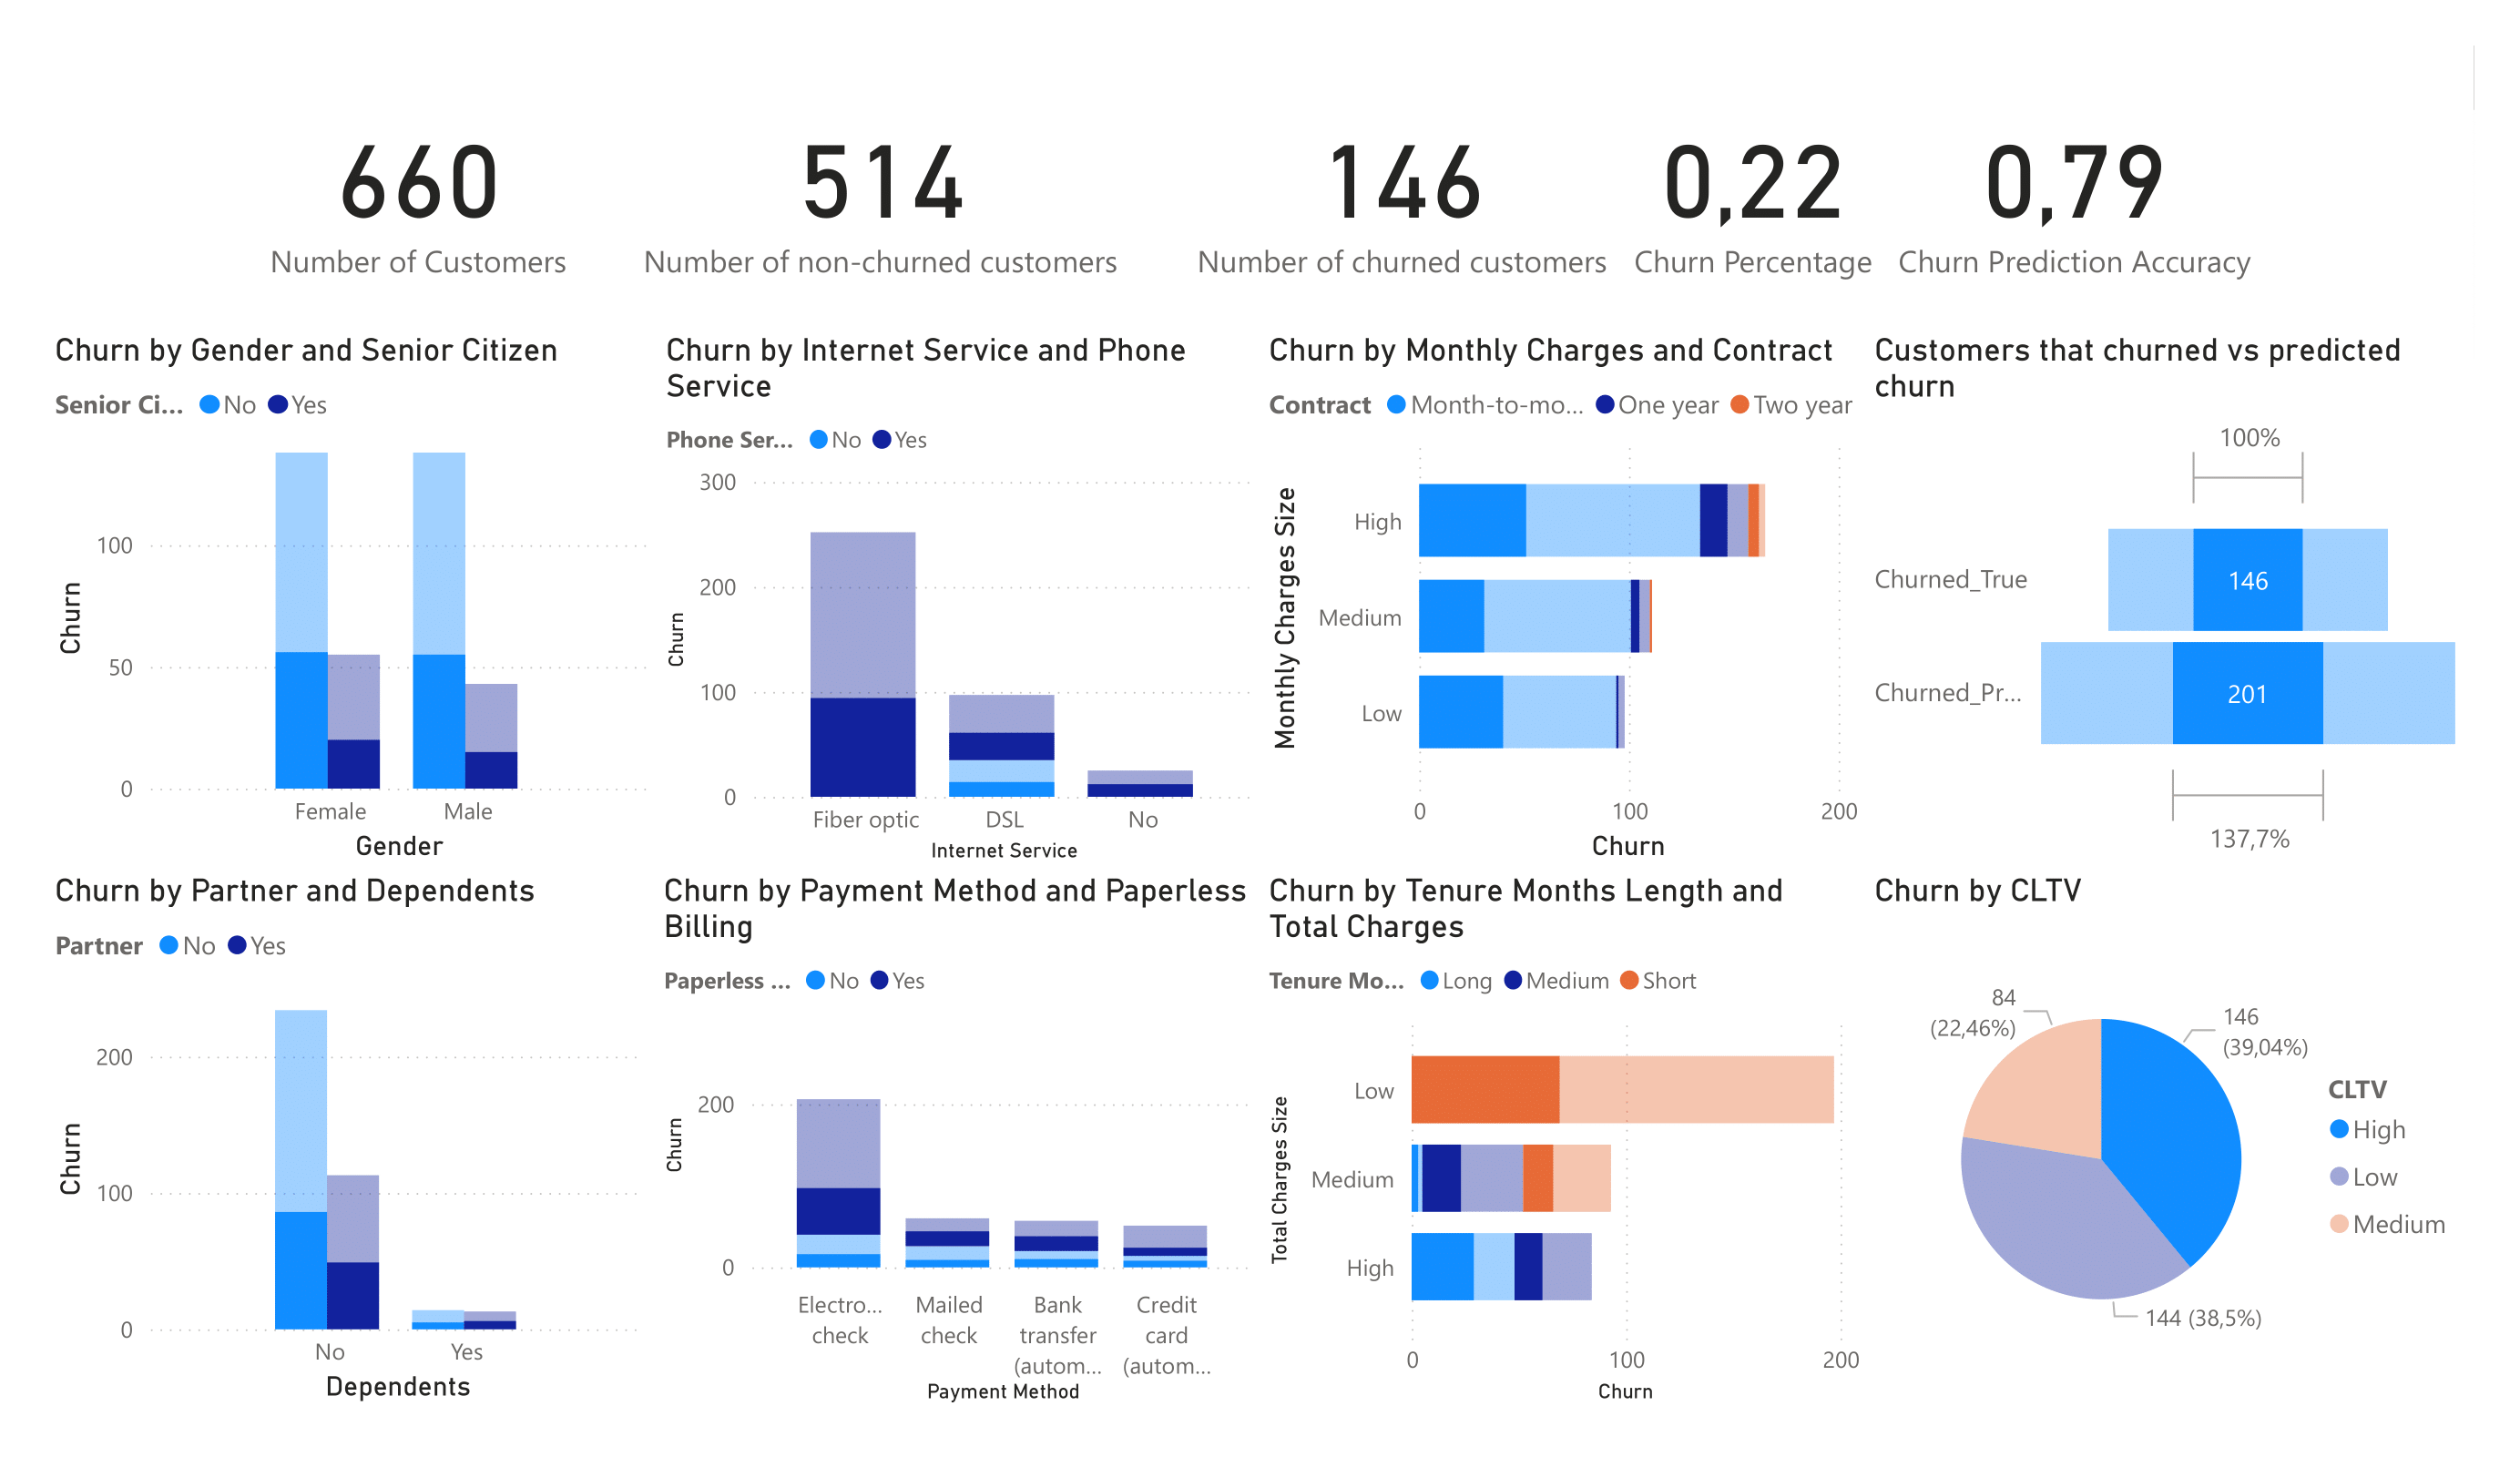

What the dashboard file says about the page in this screenshot:
{"tool":"powerbi","page":{"name":"Side 1","canvas":[1280,720],"ordinal":0},"visuals":[{"type":"card","fields":{"Values":["Avg(Forespørgsel1.y_true)"]},"box":[829.7,0,140.1,149.8],"z":0},{"type":"pieChart","title":"Churn by CLTV","fields":{"Y":["Sum(Attributes.y_true)"],"Category":["Attributes.CLTV Size"]},"box":[959,434.8,321,285],"z":1000},{"type":"card","fields":{"Values":["Attributes.Churn Prediction Accuracy"]},"box":[969.7,0,199.4,149.8],"z":2000},{"type":"barChart","title":"Churn by Tenure Months Length and Total Charges","fields":{"Category":["Attributes.Total Charges Size"],"Series":["Attributes.Tenure Months Length"],"Y":["Sum(Attributes.y_true)"]},"box":[640,434.8,321,285],"z":3000},{"type":"barChart","title":"Churn by Monthly Charges and Contract","fields":{"Category":["Attributes.Monthly Charges Size"],"Y":["Sum(Attributes.y_true)"],"Series":["Attributes.Contract"]},"box":[640,149.8,320,285],"z":4000},{"type":"columnChart","title":"Churn by Payment Method and Paperless Billing","fields":{"Category":["Attributes.Payment Method"],"Y":["Sum(Attributes.y_true)"],"Series":["Attributes.Paperless Billing"]},"box":[321,434.8,321,285],"z":5000},{"type":"columnChart","title":"Churn by Internet Service and Phone Service","fields":{"Category":["Attributes.Internet Service"],"Y":["Sum(Attributes.y_true)"],"Series":["Attributes.Phone Service"]},"box":[321.9,149.8,320,285],"z":6000},{"type":"clusteredColumnChart","title":"Churn by Partner and Dependents","fields":{"Category":["Attributes.Dependents"],"Series":["Attributes.Partner"],"Y":["Sum(Attributes.y_true)"]},"box":[0,434.8,321,285],"z":7000},{"type":"clusteredColumnChart","title":"Churn by Gender and Senior Citizen","fields":{"Category":["Attributes.Gender"],"Series":["Attributes.Senior Citizen"],"Y":["Sum(Attributes.y_true)"]},"box":[0,149.8,321.9,285],"z":8000},{"type":"funnel","title":"Customers that churned vs predicted churn","fields":{"Y":["Sum(Attributes.y_true)","Sum(Attributes.y_pred)"]},"box":[959,149.8,321,285],"z":9000},{"type":"card","fields":{"Values":["CountNonNull(Attributes.y_true)"]},"box":[110.9,0,171.2,149.8],"z":10000},{"type":"card","fields":{"Values":["CountNonNull(Attributes.y_true)"]},"box":[600.1,0,229.5,149.8],"z":11000},{"type":"card","fields":{"Values":["CountNonNull(Attributes.y_true)"]},"box":[280.1,0,320,149.8],"z":12000}]}

Visuals, with their boxes in screenshot pixels (x1, y1, x2, y2):
card - Avg(Forespørgsel1.y_true): pyautogui.locateOnScreen(1757, 66, 2020, 346)
"Churn by CLTV" pieChart: pyautogui.locateOnScreen(1999, 880, 2519, 1413)
card - Attributes.Churn Prediction Accuracy: pyautogui.locateOnScreen(2019, 66, 2392, 346)
"Churn by Tenure Months Length and Total Charges" barChart: pyautogui.locateOnScreen(1402, 880, 2003, 1413)
"Churn by Monthly Charges and Contract" barChart: pyautogui.locateOnScreen(1402, 346, 2001, 880)
"Churn by Payment Method and Paperless Billing" columnChart: pyautogui.locateOnScreen(804, 880, 1405, 1413)
"Churn by Internet Service and Phone Service" columnChart: pyautogui.locateOnScreen(806, 346, 1405, 880)
"Churn by Partner and Dependents" clusteredColumnChart: pyautogui.locateOnScreen(203, 880, 804, 1413)
"Churn by Gender and Senior Citizen" clusteredColumnChart: pyautogui.locateOnScreen(203, 346, 806, 880)
"Customers that churned vs predicted churn" funnel: pyautogui.locateOnScreen(1999, 346, 2519, 880)
card - CountNonNull(Attributes.y_true): pyautogui.locateOnScreen(411, 66, 731, 346)
card - CountNonNull(Attributes.y_true): pyautogui.locateOnScreen(1327, 66, 1757, 346)
card - CountNonNull(Attributes.y_true): pyautogui.locateOnScreen(728, 66, 1327, 346)
